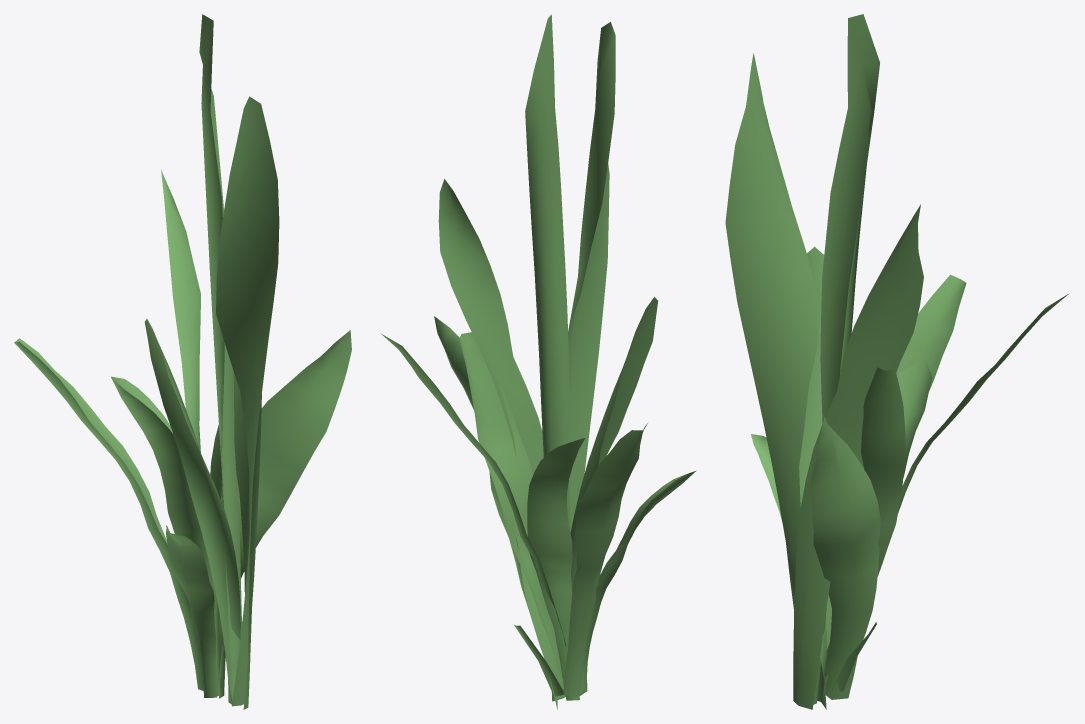
The model's file is SM_SnakePlant_01.glb.
3 renders of one model, left to right at view 1: azimuth 30°, elevation 25°; view 2: azimuth 150°, elevation 25°; view 3: azimuth 270°, elevation 25°, orthographic. The views are drawn at different scales.
Visible parts, largest first — view 1: SM_SnakePlant_01; view 2: SM_SnakePlant_01; view 3: SM_SnakePlant_01.
Boxes of the visible parts, <box> form: SM_SnakePlant_01: <box>14,14,351,709</box>; SM_SnakePlant_01: <box>381,14,696,709</box>; SM_SnakePlant_01: <box>725,14,1069,709</box>.
Size of what is drawn, in the model's own units: 12.88 by 30.95 by 14.05.
